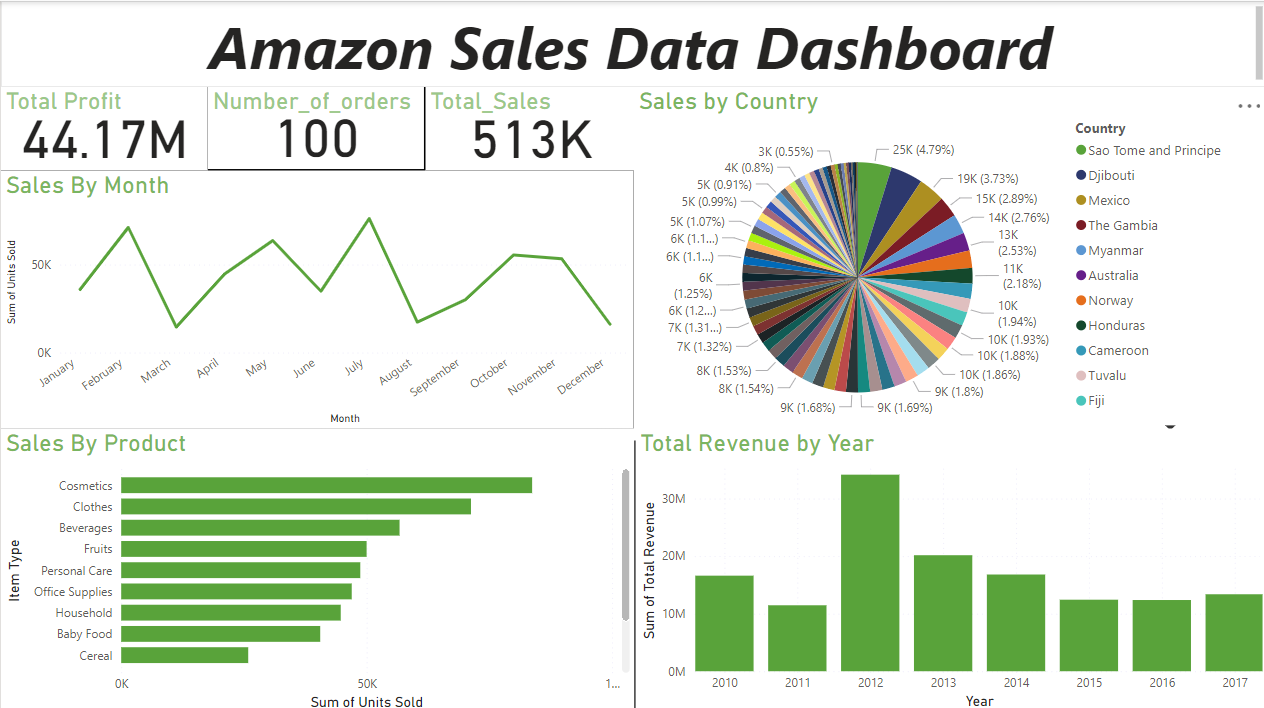

The dashboard page shown, as its layout file describes it:
{"tool":"powerbi","page":{"name":"Amazon Sales Data Dashboard","canvas":[1280,720],"ordinal":0},"visuals":[{"type":"card","title":"Total Profit","fields":{"Values":["Sum(Amazon Sales data.Total Profit)"]},"box":[0,86.3,209,84.8],"z":0},{"type":"card","title":"Number_of_orders","fields":{"Values":["CountNonNull(Amazon Sales data.Order ID)"]},"box":[209,86.3,218,83.3],"z":1000},{"type":"lineChart","title":"Sales By Month","fields":{"Category":["Amazon Sales data.Order Date.Variation.Date Hierarchy.Month"],"Y":["Sum(Amazon Sales data.Units Sold)"]},"box":[0,171.1,639,260.4],"z":2000},{"type":"clusteredBarChart","title":"Sales By Product","fields":{"Y":["Sum(Amazon Sales data.Units Sold)"],"Category":["Amazon Sales data.Item Type"]},"box":[0,430.9,639.5,288.2],"z":3000},{"type":"card","title":"Total_Sales","fields":{"Values":["Sum(Amazon Sales data.Units Sold)"]},"box":[428.5,86.3,212,84.8],"z":4000},{"type":"pieChart","title":"Sales by Country","fields":{"Y":["Sum(Amazon Sales data.Units Sold)"],"Category":["Amazon Sales data.Country"]},"box":[639,86.3,640.5,357.4],"z":5000},{"type":"columnChart","title":"Total Revenue by Year","fields":{"Y":["Sum(Amazon Sales data.Total Revenue)"],"Category":["Amazon Sales data.Ship Date.Variation.Date Hierarchy.Year"]},"box":[640.5,431.5,639,287.7],"z":6000},{"type":"textbox","box":[0,0,1279.5,86.3],"z":6001}]}

Visuals, with their boxes in screenshot pixels (x1, y1, x2, y2), scaled from the page's 1280x720 canvas onto the 1264x708 screenshot:
"Total Profit" card: BBox(0, 85, 206, 168)
"Number_of_orders" card: BBox(206, 85, 422, 167)
"Sales By Month" lineChart: BBox(0, 168, 631, 424)
"Sales By Product" clusteredBarChart: BBox(0, 424, 632, 707)
"Total_Sales" card: BBox(423, 85, 632, 168)
"Sales by Country" pieChart: BBox(631, 85, 1263, 436)
"Total Revenue by Year" columnChart: BBox(632, 424, 1263, 707)
textbox: BBox(0, 0, 1263, 85)
